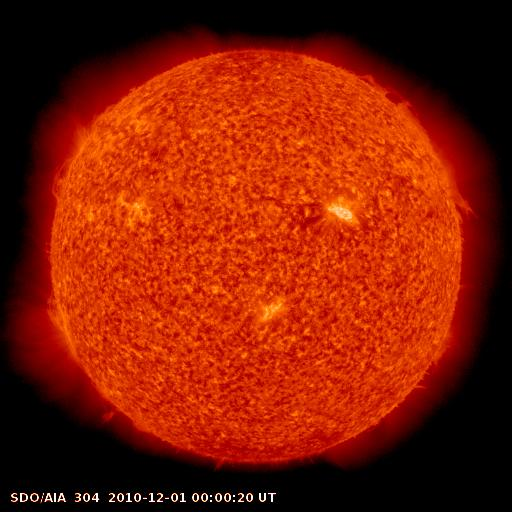prominence: (348, 67, 429, 124), (438, 152, 494, 231), (78, 76, 146, 133), (39, 150, 83, 207), (417, 323, 463, 376), (40, 284, 83, 337), (32, 230, 66, 271), (95, 391, 128, 427)
